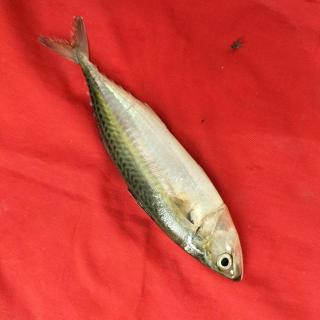Ikan: (26, 7, 262, 287)
